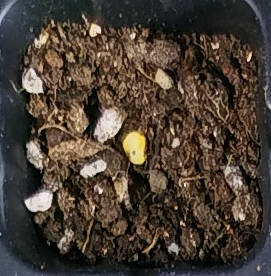chilli seed: (122, 131, 146, 165)
